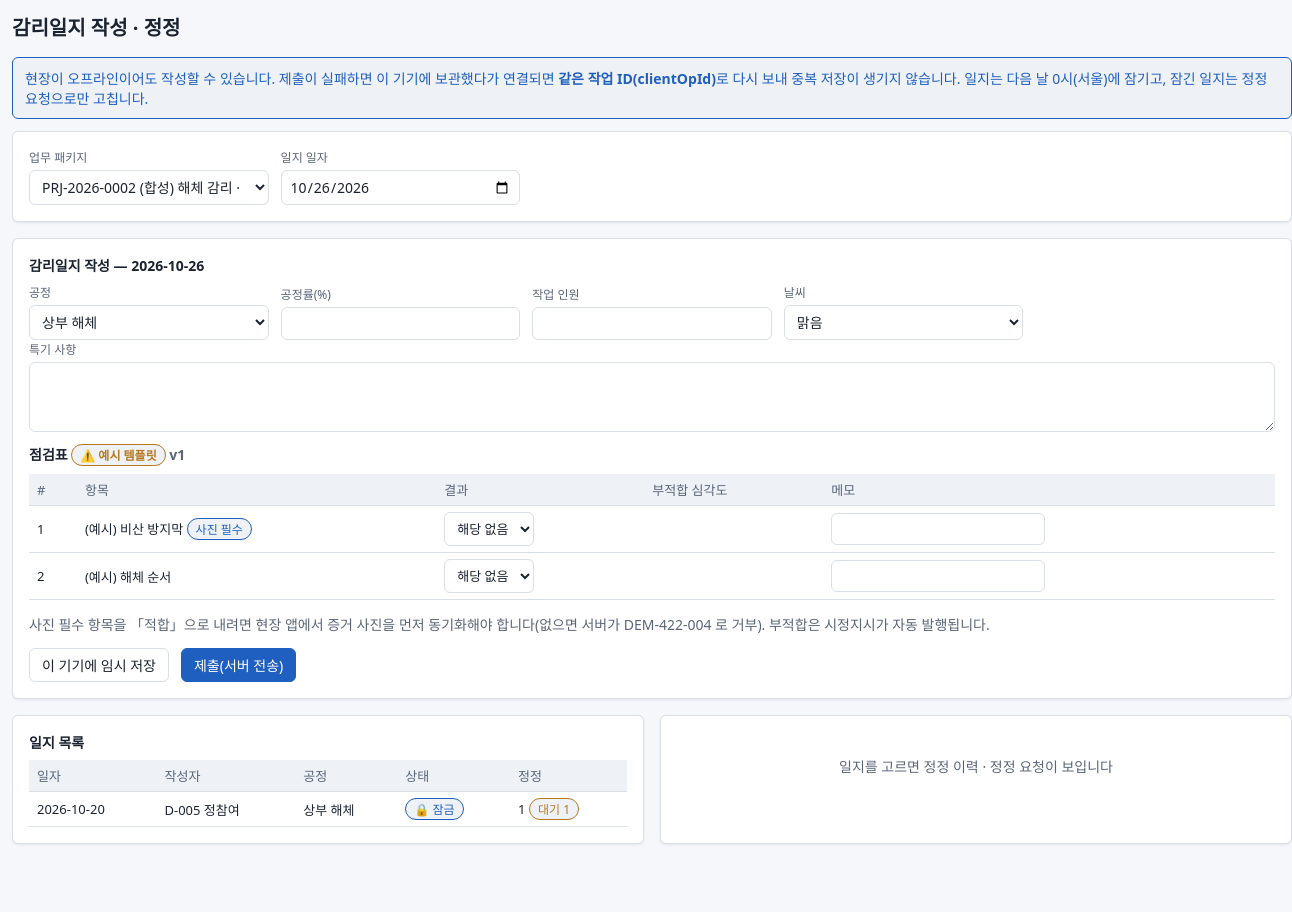
Test case: 감리일지 작성 · 정정 화면 › 온라인 제출 → 저장 완료 배너(시정지시 번호), 초안 없음
Expected: the table with test id "dem-checklist" is shown, x1=29 y1=474 x2=1275 y2=600
Click the button with test id "log-submit" at (239, 665), box x1=181 y1=648 x2=296 y2=682
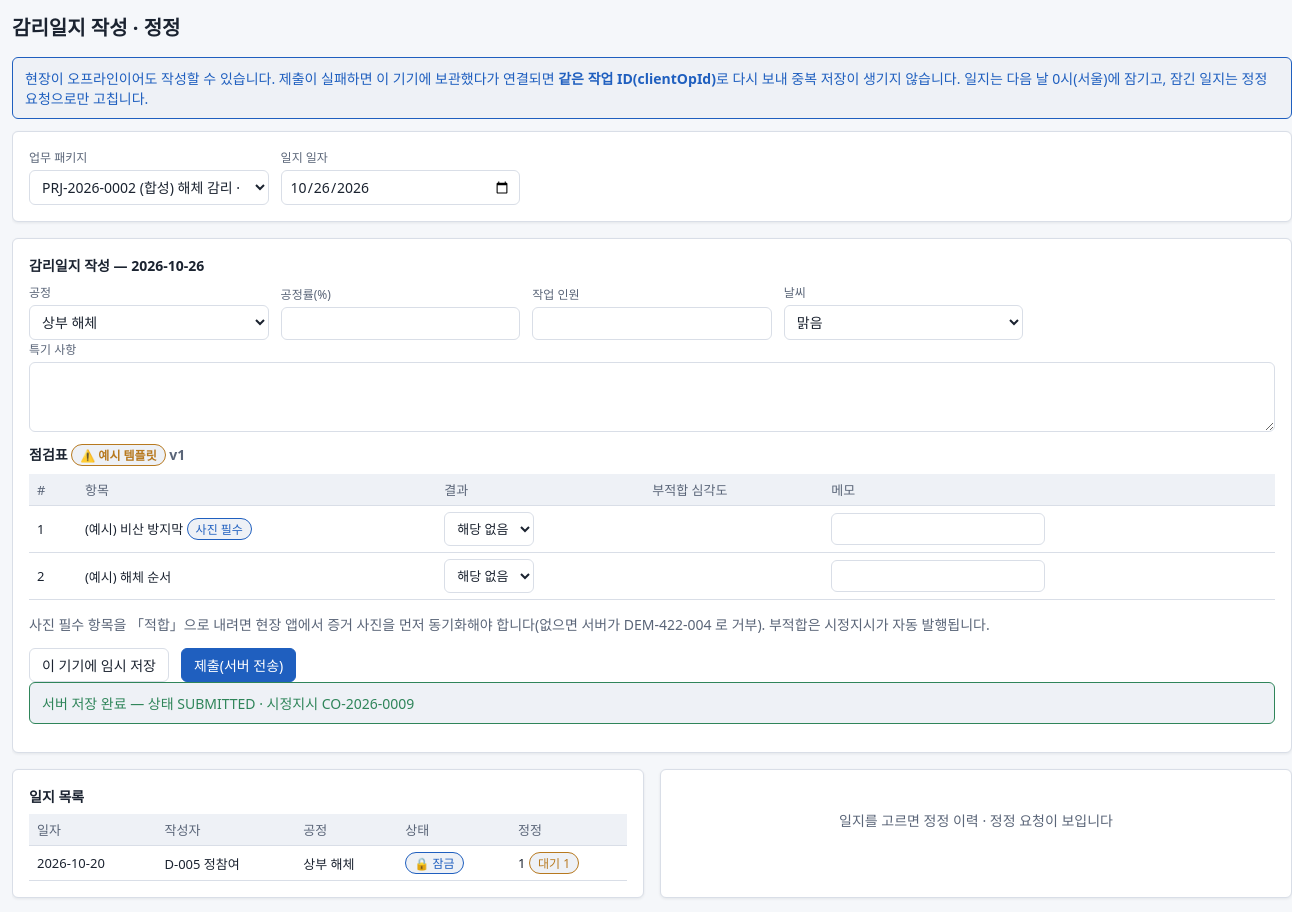
Expected: the message with test id "log-sent" shows "CO-2026-0009", x1=256 y1=694 x2=414 y2=713
